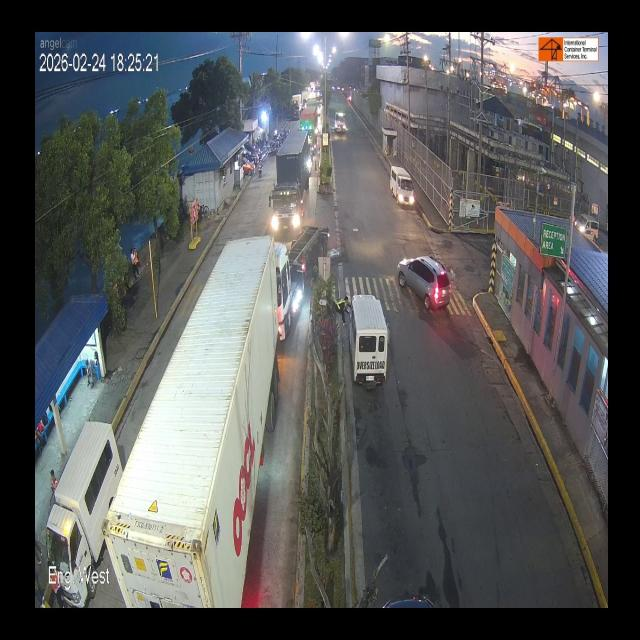car: (389, 246, 455, 324), (348, 294, 396, 398), (388, 164, 416, 212)
truck: (104, 226, 298, 611), (249, 224, 335, 333), (264, 126, 316, 241)
